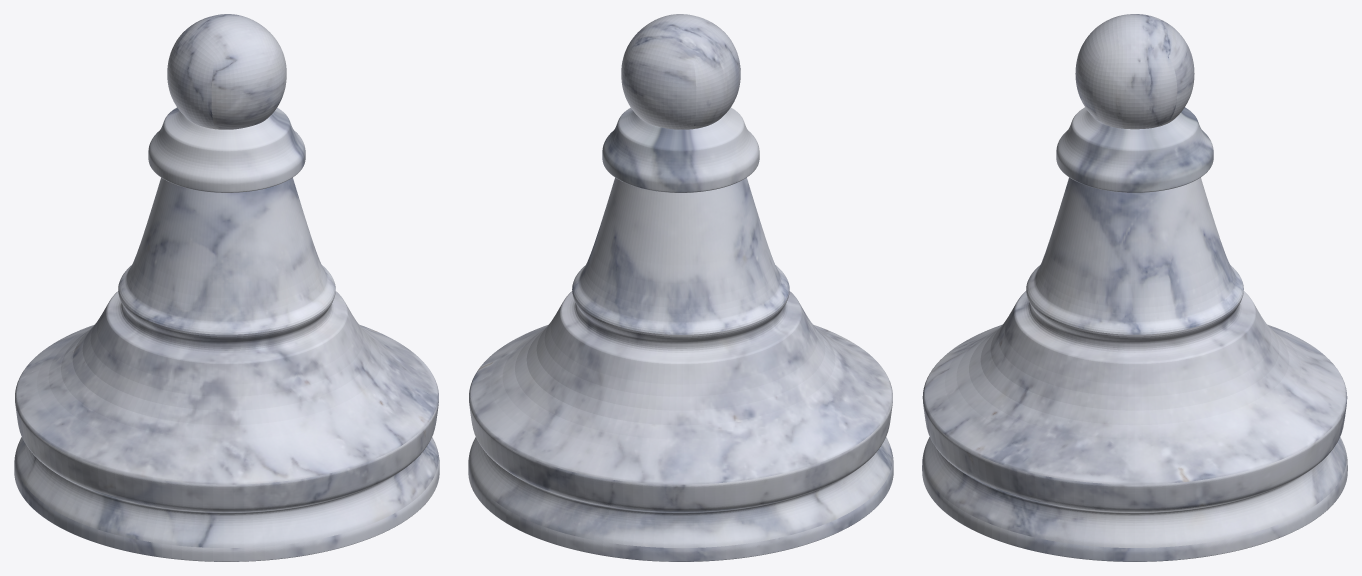
File: Pawn.fbx
3 renders of one model, left to right at view 1: azimuth 30°, elevation 25°; view 2: azimuth 150°, elevation 25°; view 3: azimuth 270°, elevation 25°, orthographic.
Visible parts, largest first — view 1: PawnLow; view 2: PawnLow; view 3: PawnLow.
Part boxes in pixels (x1,y1,x2,y2): PawnLow: (14, 14, 439, 561); PawnLow: (468, 14, 893, 561); PawnLow: (922, 14, 1347, 561).
Bounding box in the file's own units: 199 × 233 × 199.
